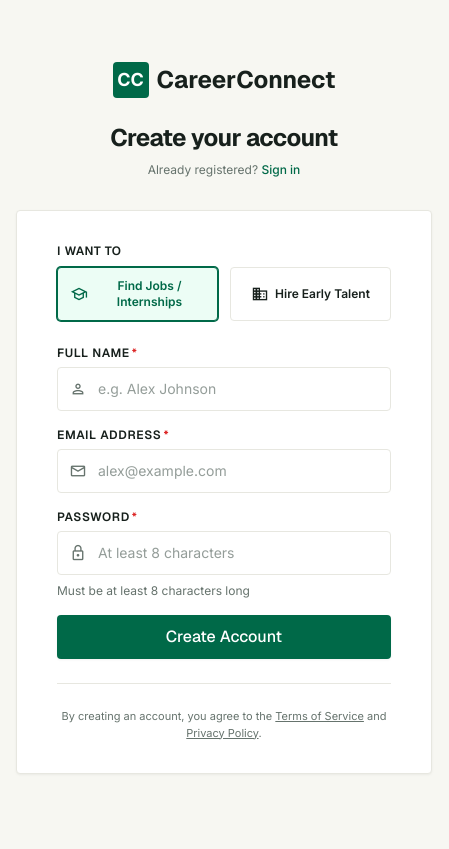
Test: RegisterPage Integration › displays conflict error message when registration fails
This screenshot has width=449, height=849.
Type "Jane Doe" into the field labelled "Full Name*" at (224, 389), box [57,367,391,411]
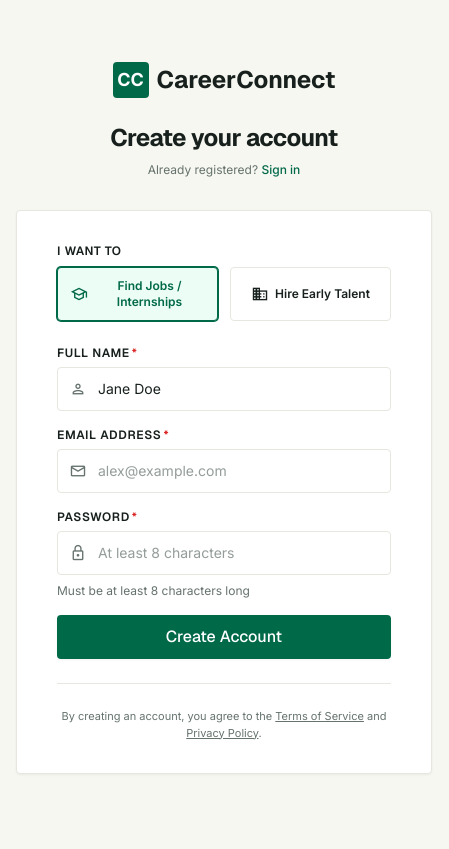
Type "existing@test.com" into the field labelled "Email Address*" at (224, 471), box [57,449,391,493]
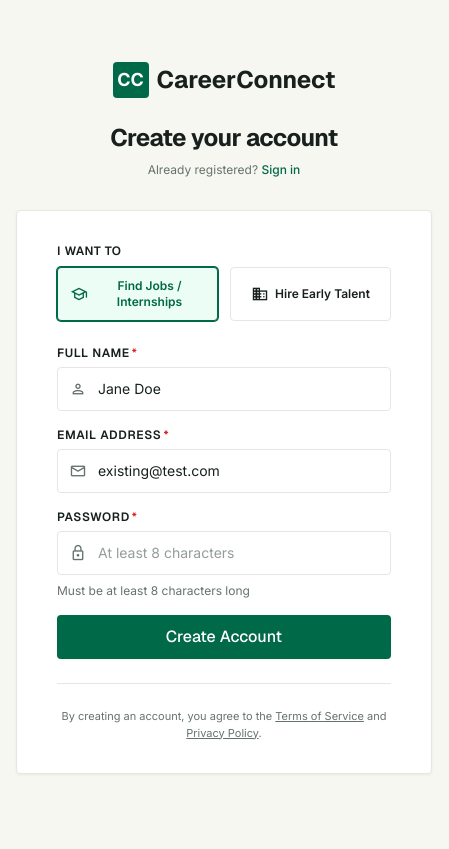
Type "password123" into the password field labelled "Password*" at (224, 553), box [57,531,391,575]
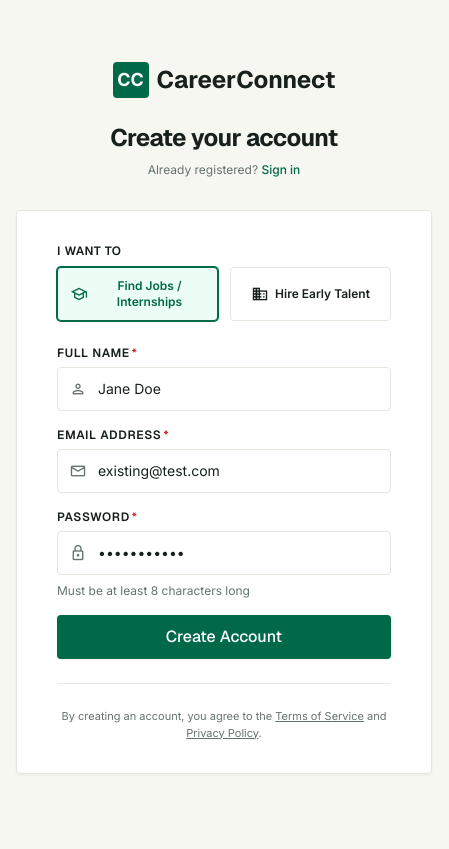
Click the button "Create Account" at (224, 637), box [57,615,391,659]
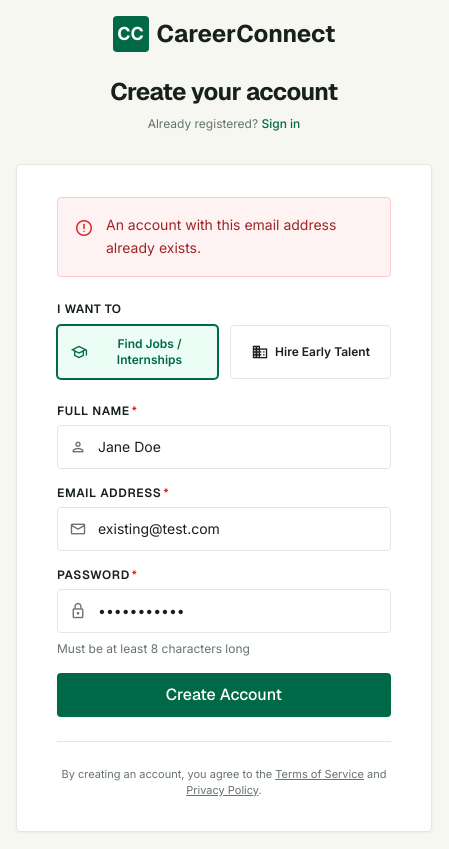
Result: the text "An account with this email address already exists." is shown at [106,214,374,260]
